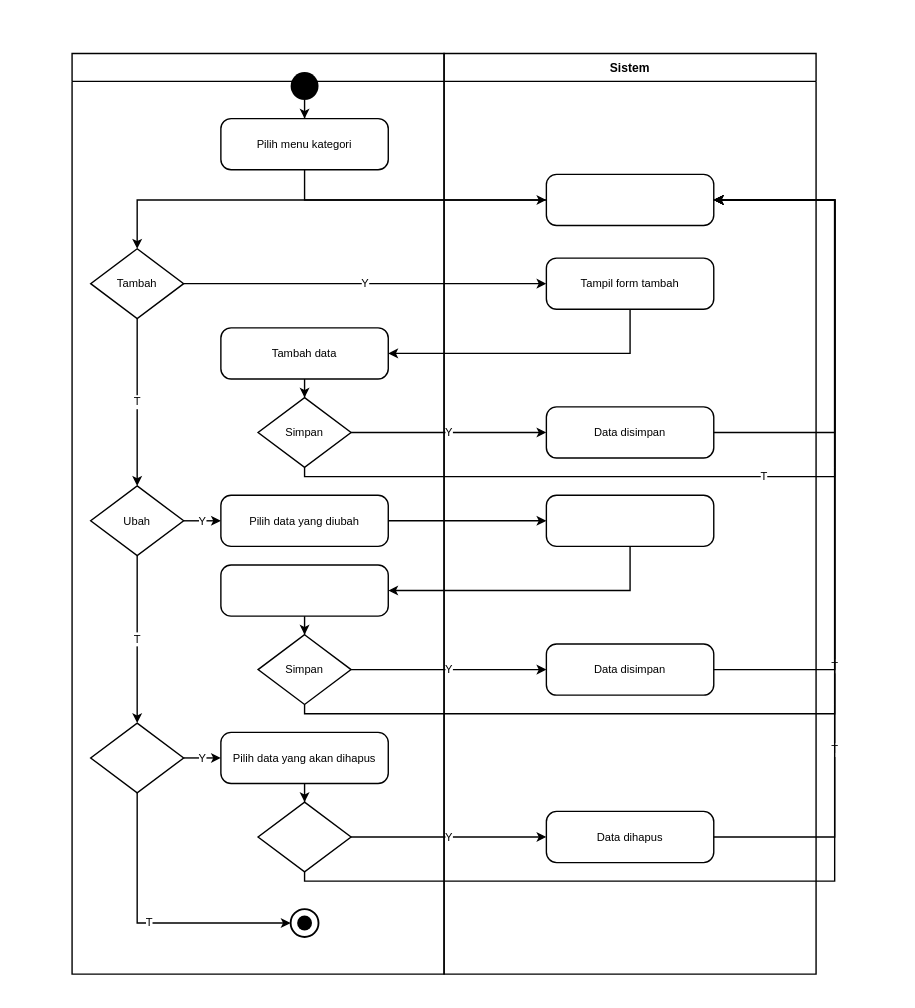
The diagram is 915 pixels wide and 1008 high, and some of its shapes have lost their labels. The shapes that lost their labels are listed below. From the top down, each one's box as (x1, y1, x2, y2) in pixels, then its label:
(545, 173, 714, 226): Tampil data kategori
(71, 52, 444, 974): Admin
(545, 494, 714, 547): Tampil form ubah
(220, 564, 389, 616): Ubah data
(90, 722, 184, 793): Hapus
(257, 801, 351, 872): yakin hapus
